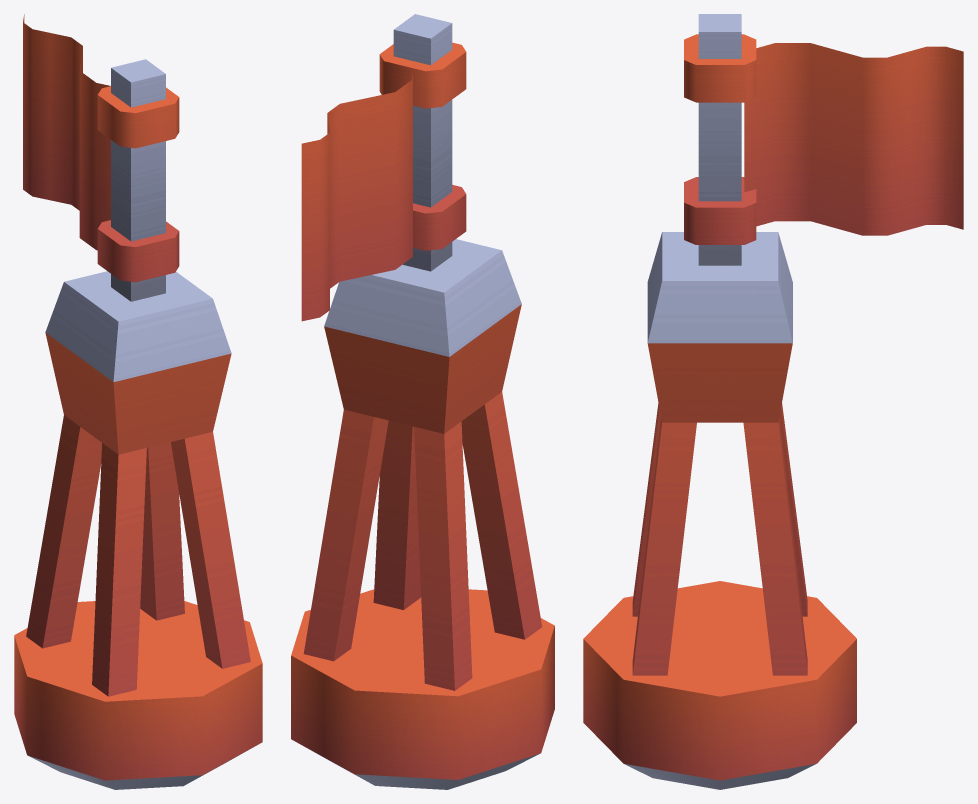
Rendered from buoy-flag.glb.
3 renders of one model, left to right at view 1: azimuth 30°, elevation 25°; view 2: azimuth 150°, elevation 25°; view 3: azimuth 270°, elevation 25°, orthographic. The views are drawn at different scales.
Parts seen in each view (by area): view 1: buoy-flag; view 2: buoy-flag; view 3: buoy-flag.
Part boxes in pixels (x1,y1,x2,y2): buoy-flag: (14, 14, 262, 789); buoy-flag: (291, 14, 554, 789); buoy-flag: (583, 14, 963, 789).
Size of the model in its own units: 0.9282 by 2.72 by 1.29.
Materials: 1 (1 with a texture image).
